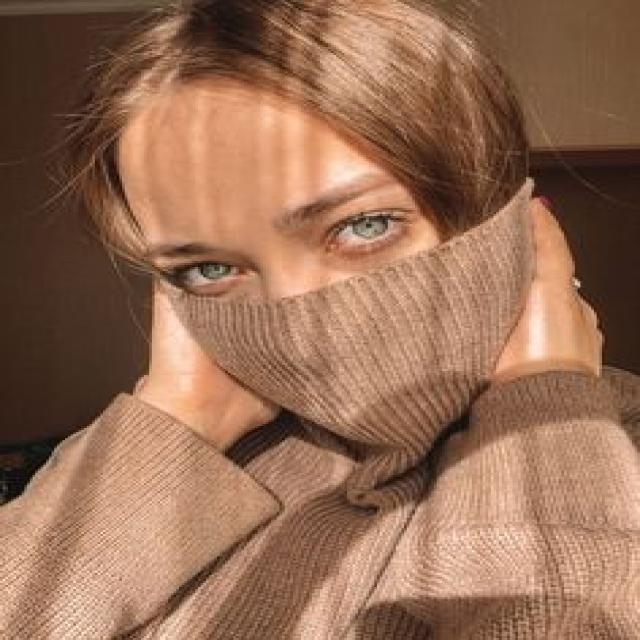8_ropa_rostro: (146, 264, 570, 532)
